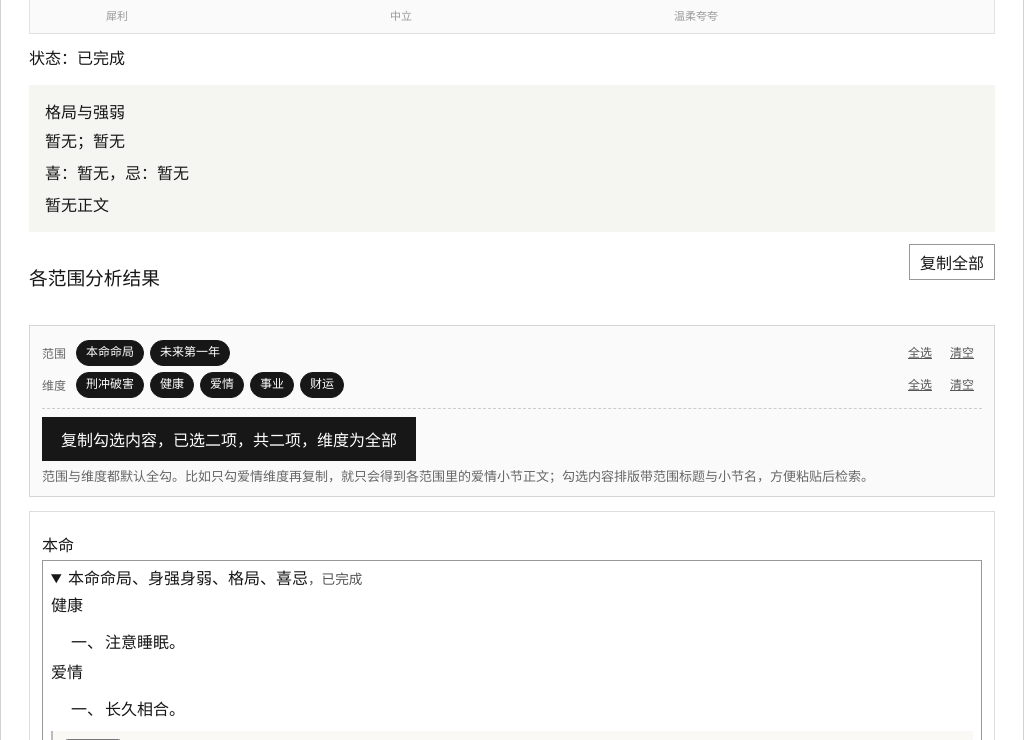
Test: 详情页复制面板：全选/清空要把整排恢复到默认 › 维度行「清空」取消全部维度，「全选」再把它们放回来
The width and height of the screenshot is (1024, 740).
(page scrolled)
Expected: the button "复制勾选内容" is shown, x1=42 y1=417 x2=416 y2=461
Click the 2nd button "清空": [962, 384] box x1=942 y1=372 x2=982 y2=396
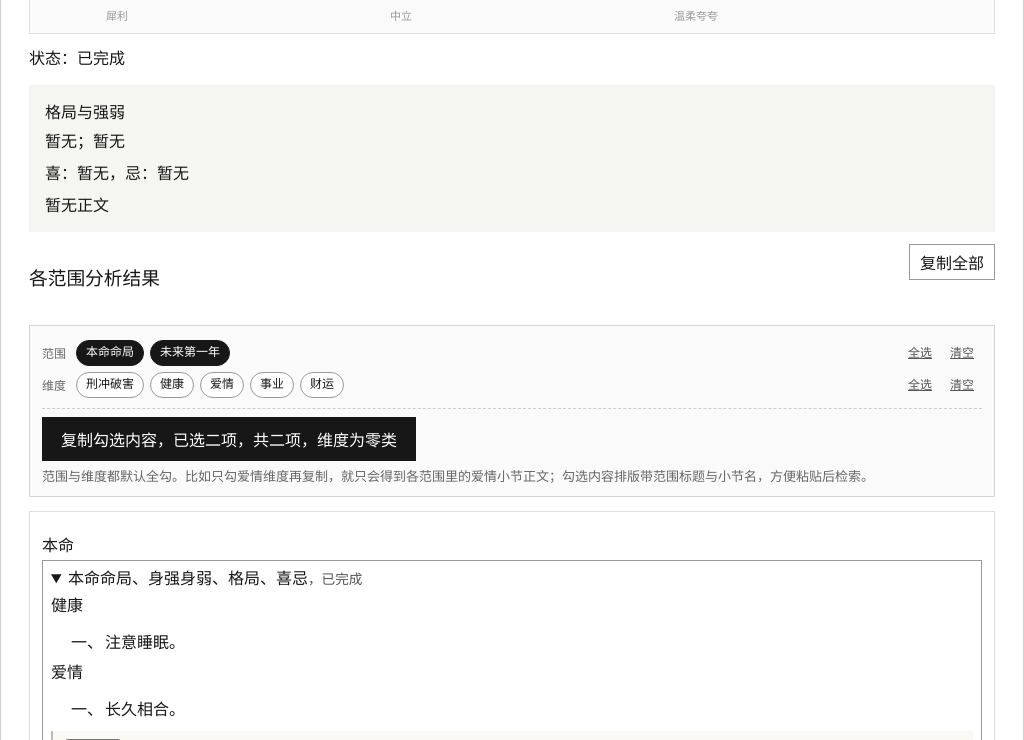
Result: the button "复制勾选内容" shows "维度为零类" at x1=42 y1=417 x2=416 y2=461
Click the 2nd button "全选": [920, 384] box x1=900 y1=372 x2=940 y2=396
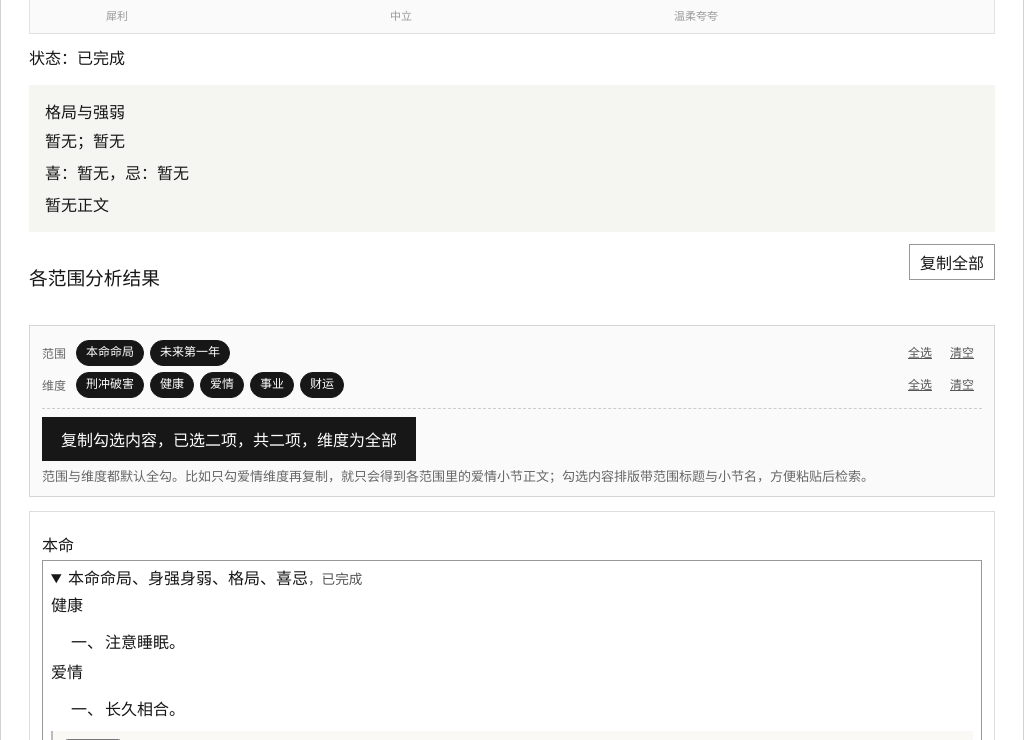
Result: the button "复制勾选内容" shows "维度为全部" at x1=42 y1=417 x2=416 y2=461
